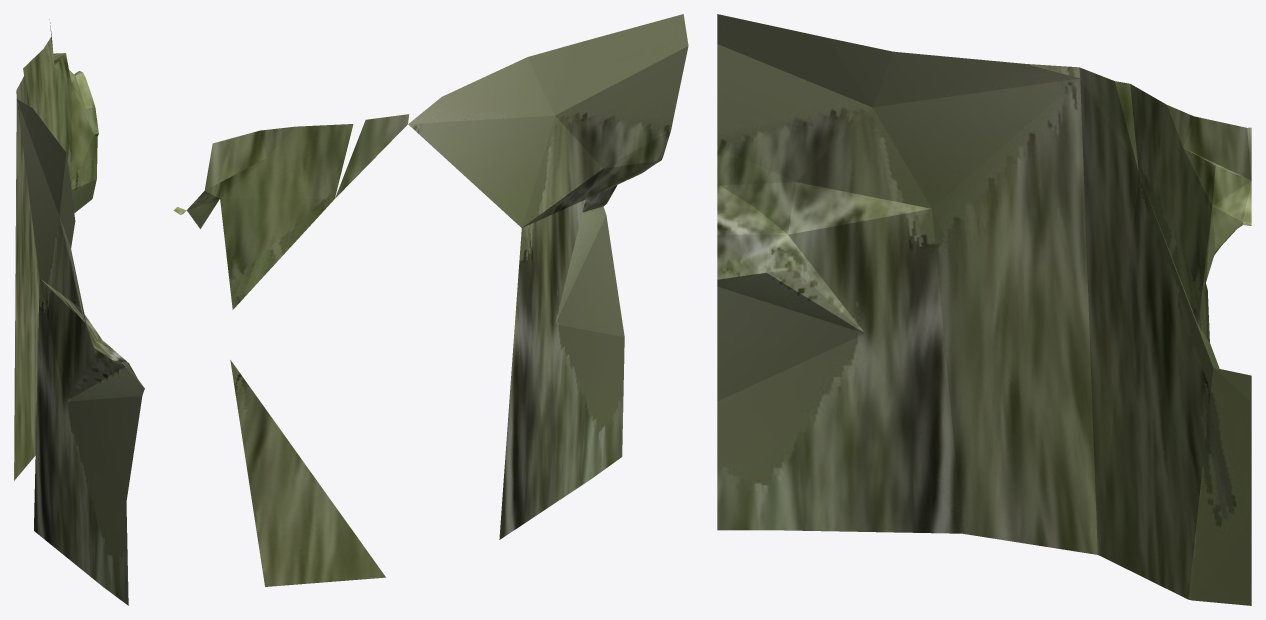
3 views of the same model, side by side, from view 1: azimuth 30°, elevation 25°; view 2: azimuth 150°, elevation 25°; view 3: azimuth 270°, elevation 25° (orthographic). The views are drawn at different scales.
Size of the model in its own units: 1.77 by 2.95 by 2.95.
Materials: 3 (3 with a texture image).
